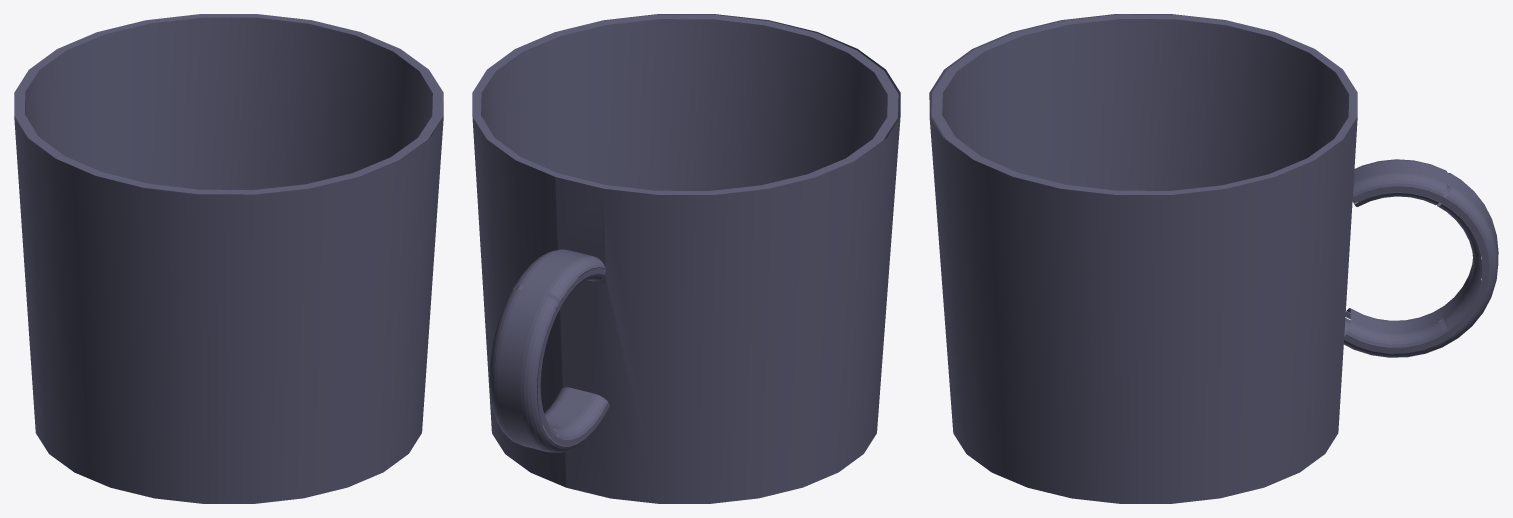
3 views of the same model, side by side, from view 1: azimuth 30°, elevation 25°; view 2: azimuth 150°, elevation 25°; view 3: azimuth 270°, elevation 25° (orthographic).
Parts seen in each view (by area): view 1: mesh1_mesh1-geometry; view 2: mesh1_mesh1-geometry, mesh3_mesh3-geometry, mesh2_mesh2-geometry; view 3: mesh1_mesh1-geometry, mesh3_mesh3-geometry.
Part boxes in pixels (<box>): mesh1_mesh1-geometry: <box>14,14,443,503</box>; mesh1_mesh1-geometry: <box>472,14,900,503</box>; mesh3_mesh3-geometry: <box>518,274,607,439</box>; mesh2_mesh2-geometry: <box>537,268,609,445</box>; mesh1_mesh1-geometry: <box>929,14,1498,503</box>; mesh3_mesh3-geometry: <box>1346,184,1482,347</box>.
Size of the model in its own units: 0.5396 by 0.4415 by 0.7169.
